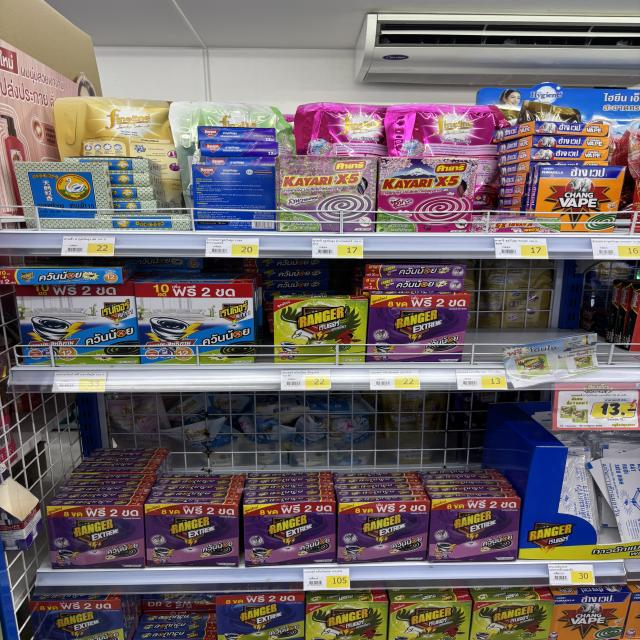empty_shelf: (31, 391, 528, 500), (469, 266, 625, 367), (133, 592, 217, 638)
